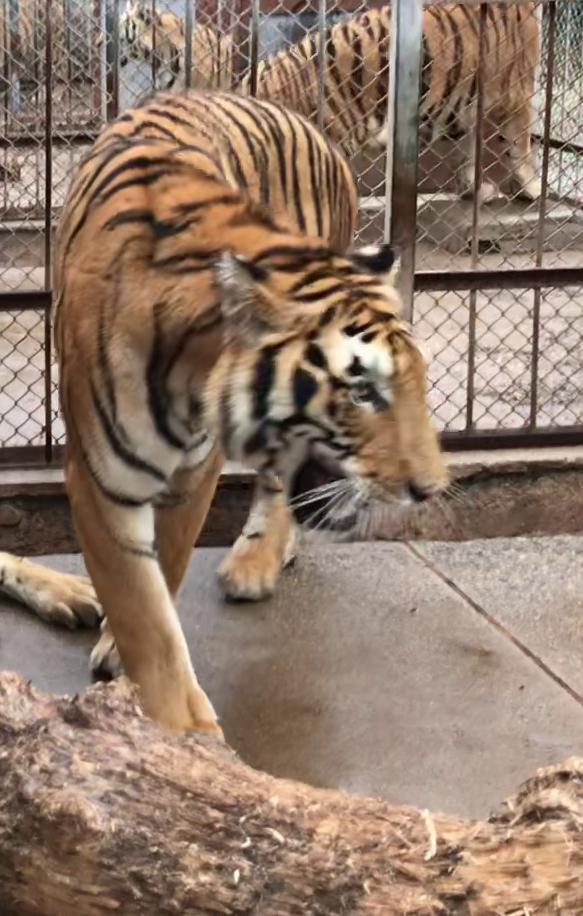tiger: (17, 92, 448, 732)
